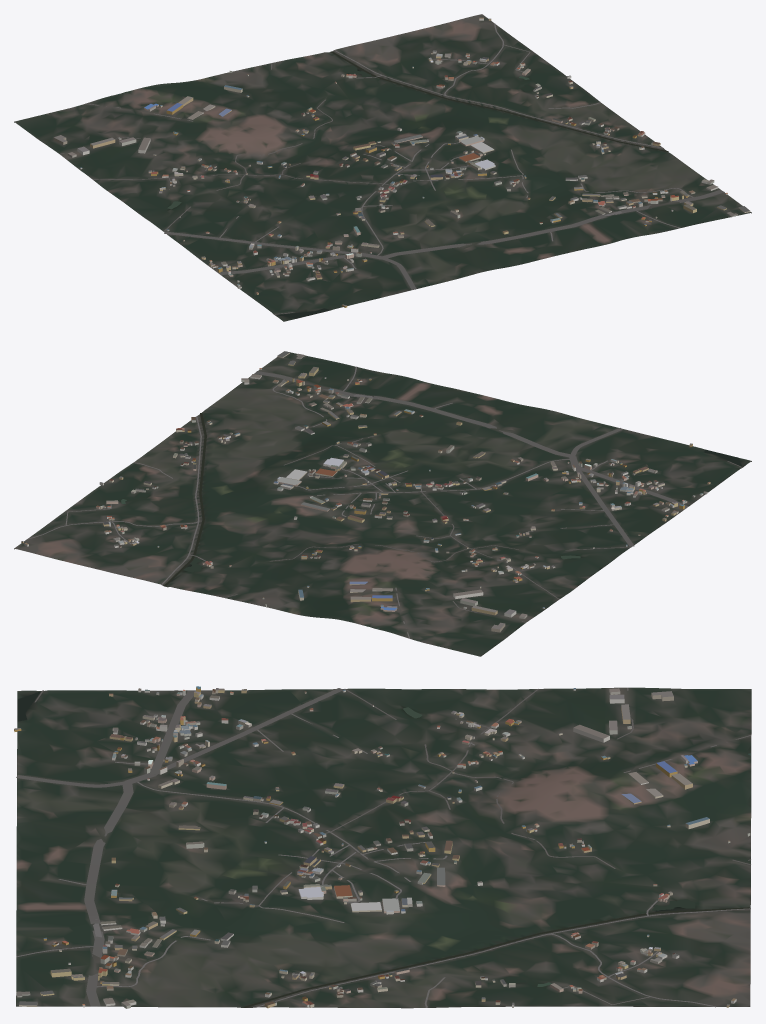
The picture shows the model from 3 angles, top to bottom: view 1: azimuth 30°, elevation 25°; view 2: azimuth 150°, elevation 25°; view 3: azimuth 270°, elevation 25°; orthographic projection. The views are drawn at different scales.
Visible parts, largest first — view 1: ground, buildings, roads, water; view 2: ground, buildings, roads, water; view 3: ground, buildings, roads, water.
Part boxes in pixels (<box>): ground: <box>14,14,751,321</box>; buildings: <box>53,17,750,307</box>; roads: <box>59,23,724,314</box>; water: <box>117,51,668,318</box>; ground: <box>14,351,751,656</box>; buildings: <box>21,351,710,632</box>; roads: <box>26,366,742,638</box>; water: <box>121,413,742,629</box>; ground: <box>16,687,751,1008</box>; buildings: <box>14,686,750,1008</box>; roads: <box>16,687,751,1007</box>; water: <box>17,691,750,1007</box>.
Size of the model in its own units: 1412 by 39.86 by 1409.
